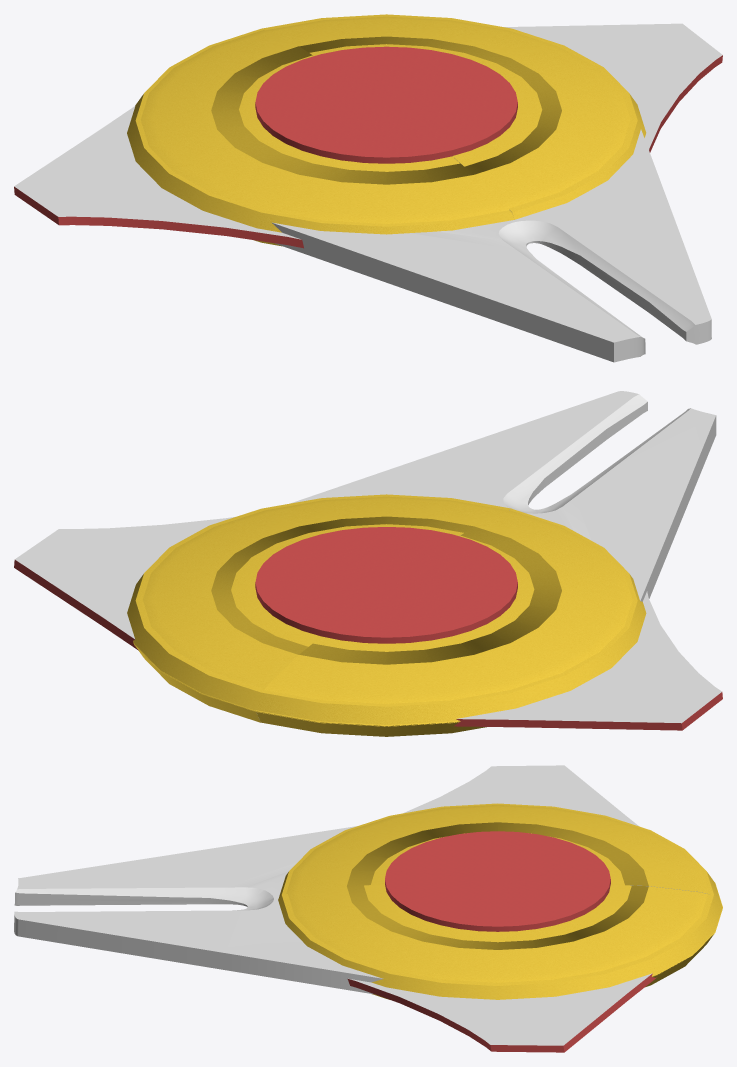
File: ship1.fbx
3 renders of one model, top to bottom at view 1: azimuth 30°, elevation 25°; view 2: azimuth 150°, elevation 25°; view 3: azimuth 270°, elevation 25°, orthographic. The views are drawn at different scales.
Parts seen in each view (by area): view 1: bodytop, Cap_2_3, covers, Cap_2_2, Cap_1, front, Capsule_2, wingR; view 2: bodytop, Cap_2_3, covers, Cap_2_2, Cap_1, bodybottom, Capsule_2, front, wingR, wingL; view 3: bodytop, Cap_2_3, covers, front, Cap_1, Cap_2_2, Capsule_2, wingL.
Boxes of the visible parts, box(x1,y1,x2,y2) form: bodytop: box(127, 14, 646, 234); Cap_2_3: box(272, 129, 711, 342); covers: box(255, 46, 517, 163); Cap_2_2: box(14, 106, 300, 239); Cap_1: box(504, 23, 722, 149); front: box(272, 223, 711, 362); Capsule_2: box(498, 220, 694, 338); wingR: box(14, 186, 303, 248); bodytop: box(127, 494, 646, 726); Cap_2_3: box(290, 391, 715, 600); covers: box(255, 527, 517, 643); Cap_2_2: box(457, 591, 721, 723); Cap_1: box(15, 516, 235, 638); bodybottom: box(133, 643, 486, 736); Capsule_2: box(503, 394, 690, 513); front: box(528, 402, 716, 601); wingR: box(454, 692, 722, 730); wingL: box(14, 560, 138, 650); bodytop: box(278, 803, 722, 999); Cap_2_3: box(14, 826, 382, 978); covers: box(385, 831, 610, 931); front: box(14, 878, 382, 994); Cap_1: box(348, 973, 652, 1045); Cap_2_2: box(403, 765, 639, 826); Capsule_2: box(15, 887, 273, 910); wingL: box(347, 973, 656, 1052).
Bounding box in the file's own units: 1769 × 168 × 1889.
Materials: 5 (5 with a texture image).
